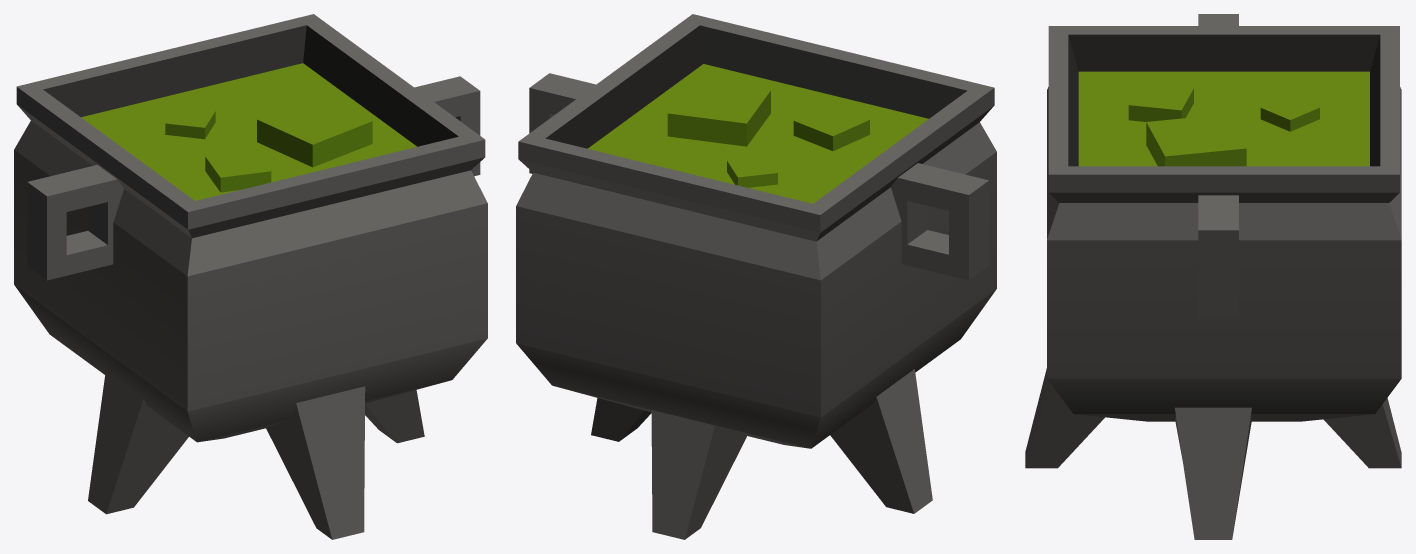
Rendered from SD_Prop_Cauldron_01.fbx.
3 renders of one model, left to right at view 1: azimuth 30°, elevation 25°; view 2: azimuth 150°, elevation 25°; view 3: azimuth 270°, elevation 25°, orthographic. The views are drawn at different scales.
Parts seen in each view (by area): view 1: SD_Prop_Cauldron_01; view 2: SD_Prop_Cauldron_01; view 3: SD_Prop_Cauldron_01.
Boxes of the visible parts, x1,y1,x2,y2 form: SD_Prop_Cauldron_01: (14, 14, 487, 539); SD_Prop_Cauldron_01: (516, 14, 996, 539); SD_Prop_Cauldron_01: (1025, 14, 1401, 539).
Bounding box in the file's own units: 1.48 × 1.15 × 1.09.
